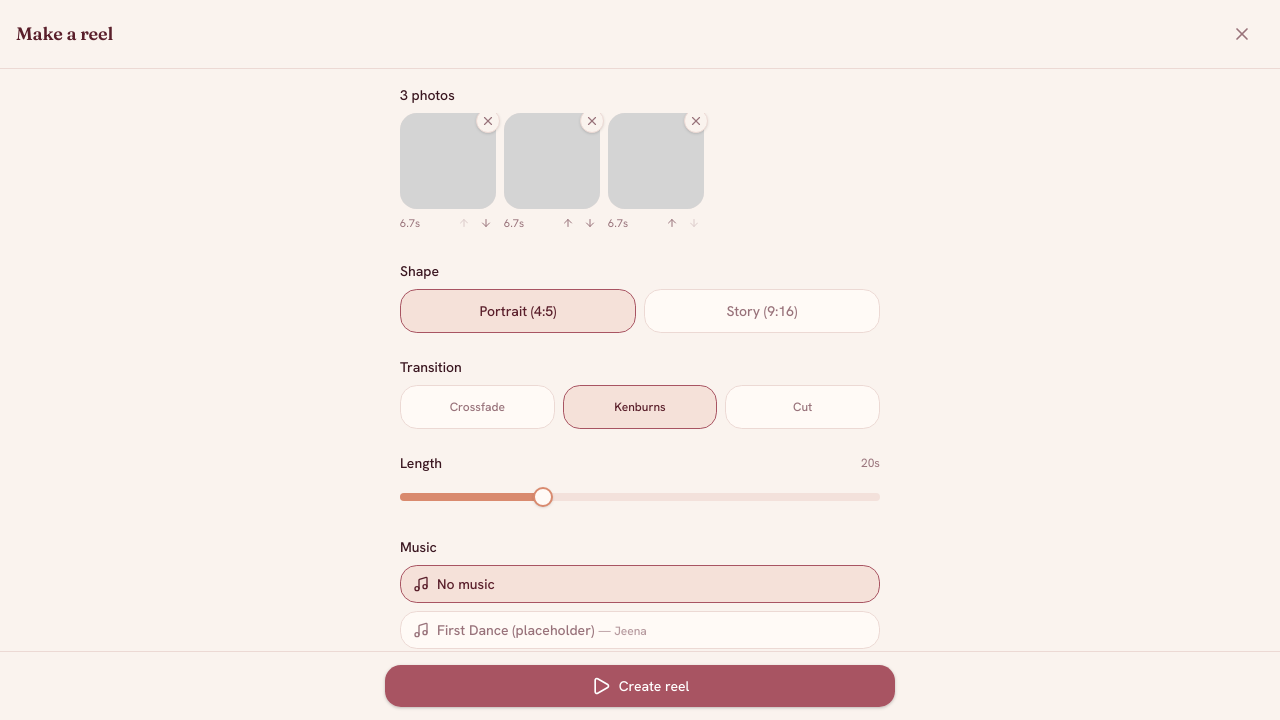
Scenario: ReelMaker › a remove control drops a photo from the strip
Click the button with test id "reel-remove-photo-2".
click(592, 121)  # box [580,109,604,133]
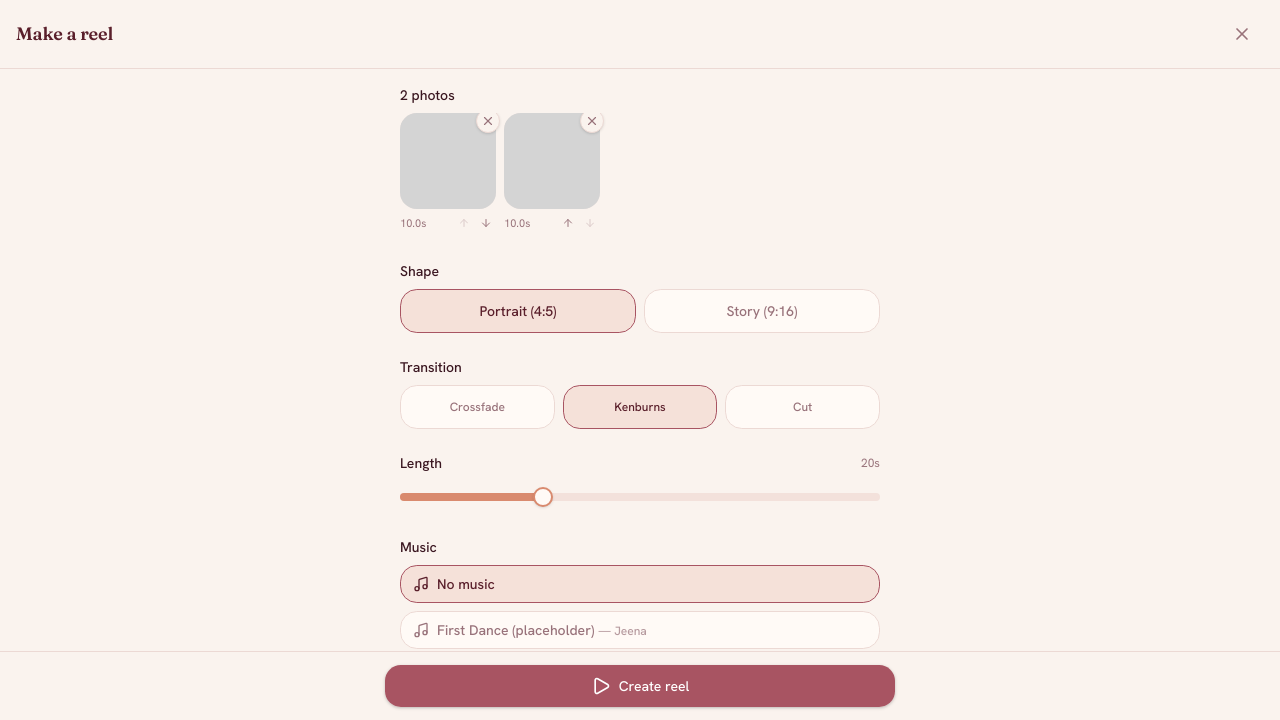
Expected: the element with test id "reel-photo-photo-2" is gone
